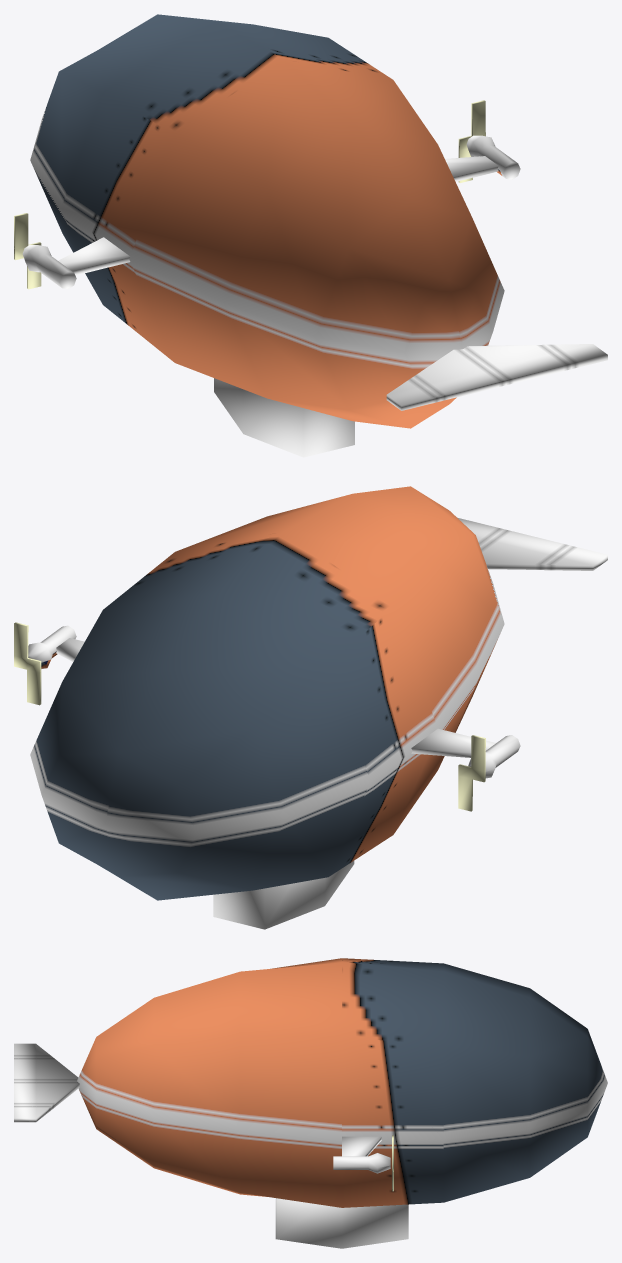
Rendered from ICON.ICO.obj.
3 views of the same model, one above another, from view 1: azimuth 30°, elevation 25°; view 2: azimuth 150°, elevation 25°; view 3: azimuth 270°, elevation 25° (orthographic). The views are drawn at different scales.
Size of the model in its own units: 2.28 by 1.69 by 3.35.
Materials: 1 (1 with a texture image).
